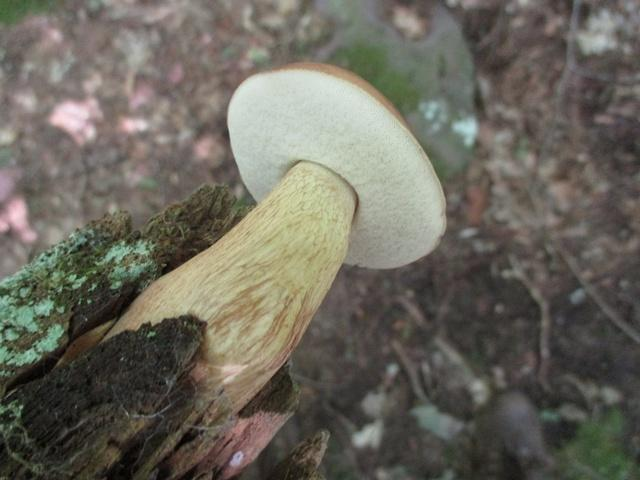poisonous_mushroom: (1, 59, 448, 478)
